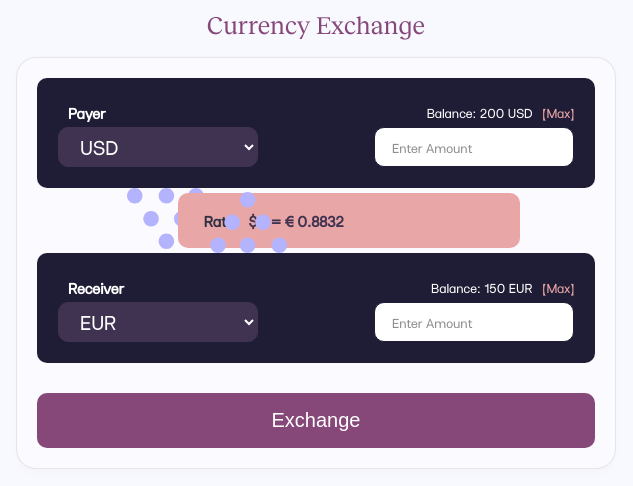
Test: calculate amount exchange with amount receive
Expected: the text "$ 1 = € 0.8832" is shown, [248,212,344,230]
Type "10" into the number field named "Receiver-input".
click(474, 322); type("10")  # box [374,302,574,342]
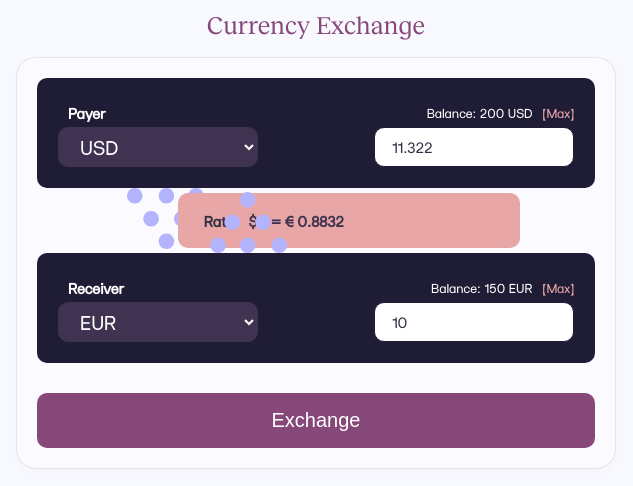
Result: the number field named "Payer-input" holds "11.322" at [374,127,574,167]
